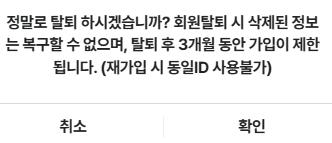button: (1, 104, 162, 143), (166, 104, 331, 142)
